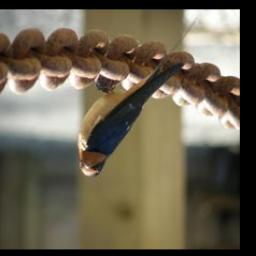Swallow: (75, 16, 200, 178)
